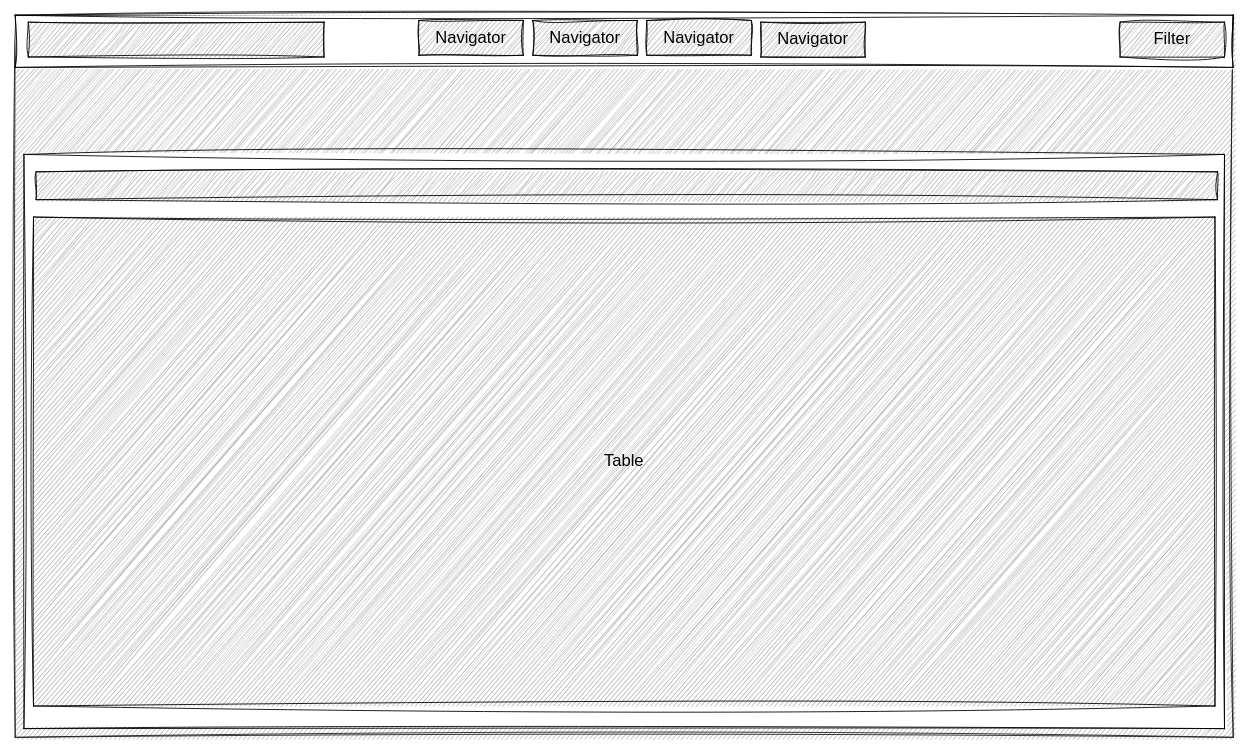
Image size: 1248x753. Some labels were removed from this diagram. Here are the shapes that lost their labels. From the top down, the box of each, then its label:
(27, 21, 324, 57): Title
(35, 171, 1218, 200): Headers
